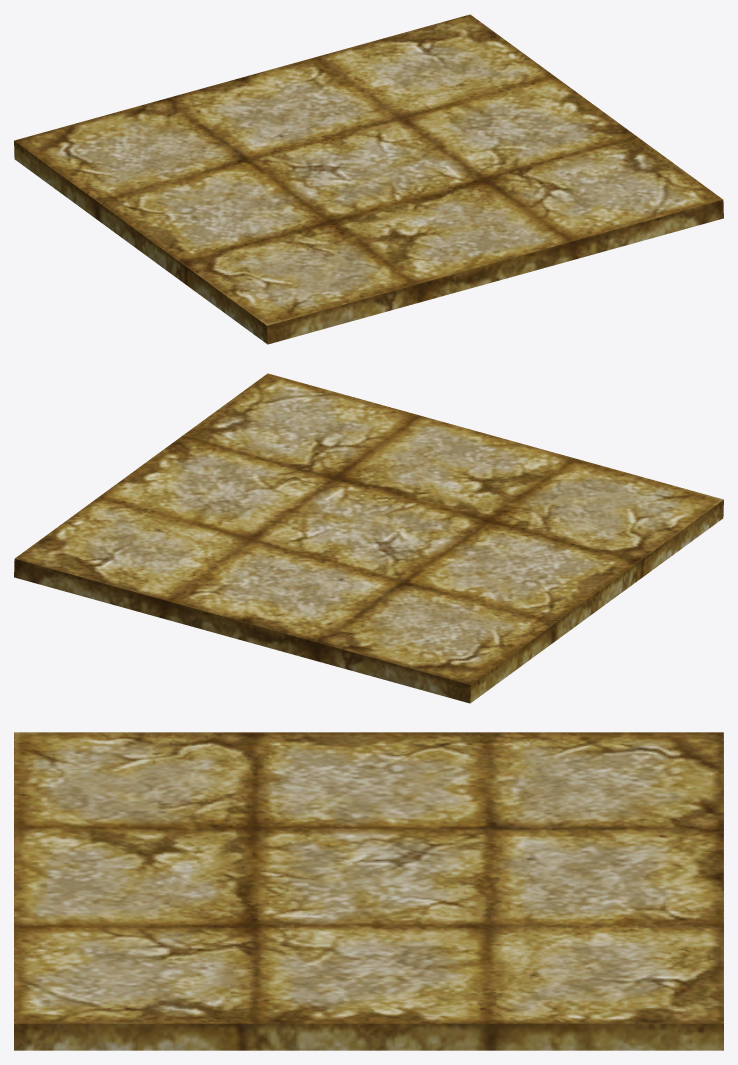
Rendered from obj_mariprceiling01.glb.
3 renders of one model, top to bottom at view 1: azimuth 30°, elevation 25°; view 2: azimuth 150°, elevation 25°; view 3: azimuth 270°, elevation 25°, orthographic. The views are drawn at different scales.
Parts seen in each view (by area): view 1: part_0; view 2: part_0; view 3: part_0.
Boxes of the visible parts, x1,y1,x2,y2 form: part_0: (14,14,723,344); part_0: (14,373,723,703); part_0: (14,732,723,1050).
Size of the model in its own units: 8.12 by 0.5726 by 7.79.
1 material, 1 textured.
